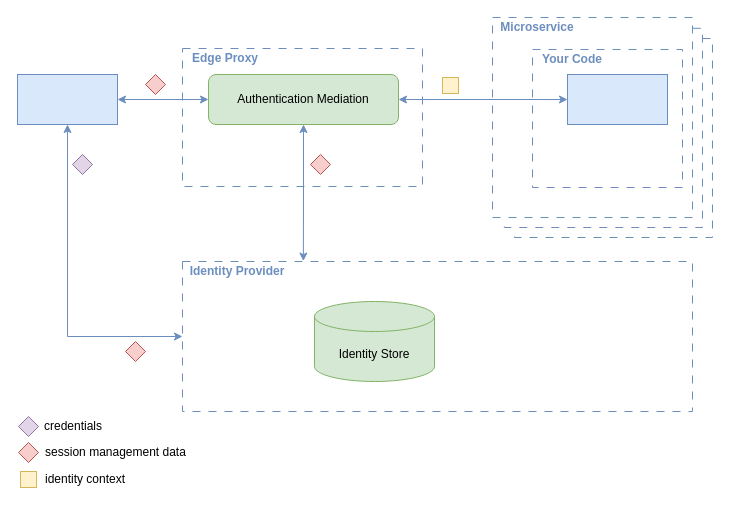
The diagram is 731 pixels wide and 507 high, and some of its shapes have lost their labels. The shapes that lost their labels are listed below. From the top down, each one's centre as x and y in pixels, then its label:
At (x=67, y=99): "Some Client «Subject»".
At (x=617, y=99): "Some Entity «Object»".
